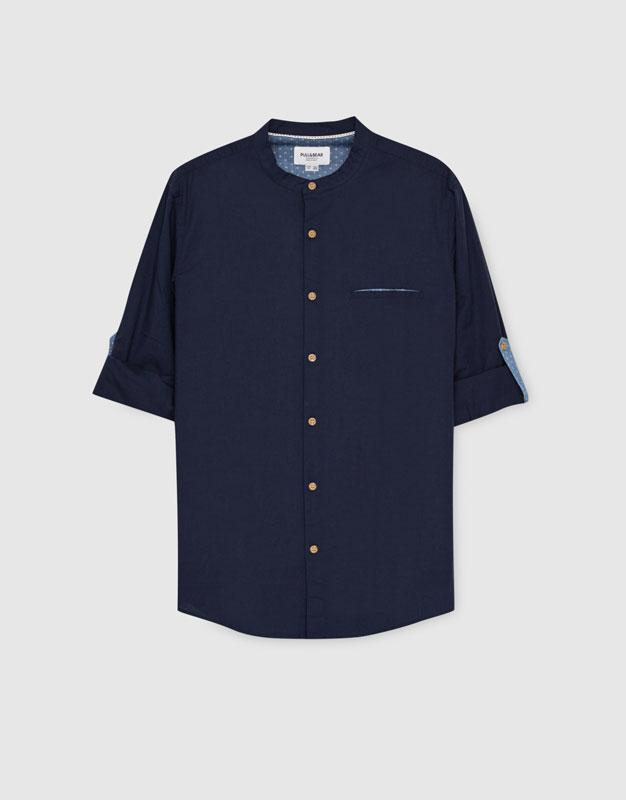teeshirt: (91, 109, 542, 663)
